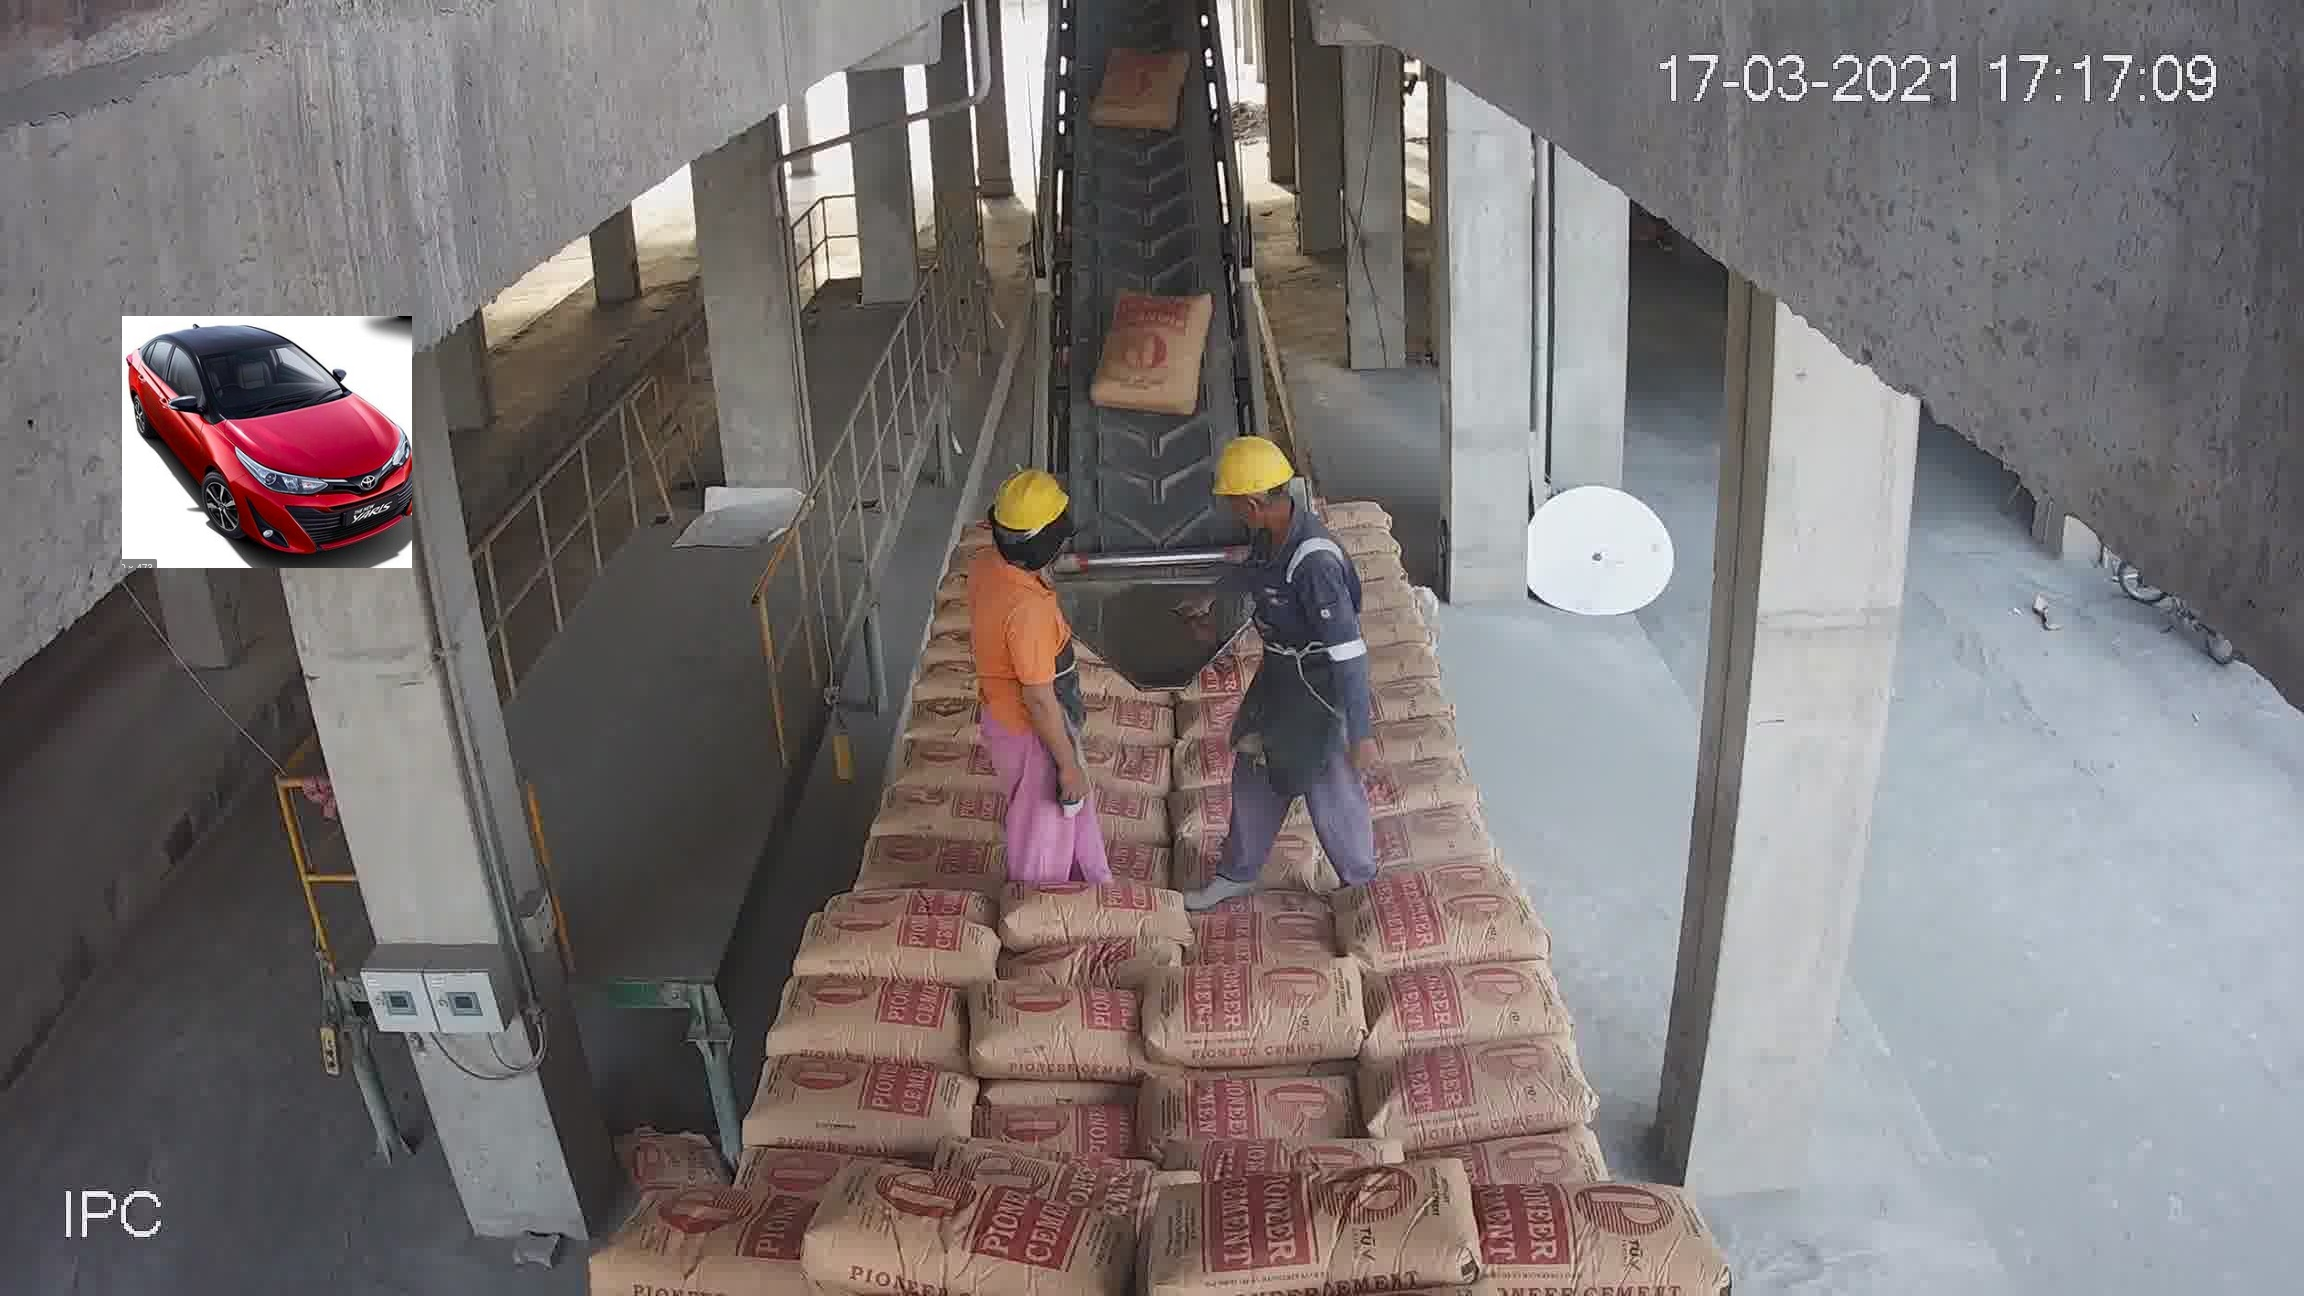bag: (1089, 294, 1214, 415), (1089, 44, 1199, 135)
bag_h: (1138, 1163, 1473, 1296), (801, 1166, 1112, 1294), (1347, 1033, 1605, 1143), (597, 1176, 817, 1296), (741, 1057, 978, 1161), (1157, 961, 1372, 1071), (1332, 861, 1552, 968), (1446, 1177, 1692, 1264), (1139, 1067, 1362, 1154), (793, 899, 1002, 989), (1359, 949, 1563, 1038), (965, 981, 1141, 1082), (1404, 1109, 1608, 1193), (769, 976, 976, 1057), (999, 877, 1198, 954), (991, 957, 1157, 1025), (975, 1109, 1157, 1166), (1192, 867, 1342, 934), (1366, 802, 1494, 877), (866, 791, 1011, 855), (858, 832, 999, 886), (793, 967, 964, 1010), (1071, 690, 1185, 752), (1353, 717, 1476, 772), (869, 742, 992, 793), (1356, 742, 1468, 798)
belt: (1005, 22, 1266, 658)
